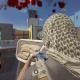Character: (17, 12, 80, 80), (39, 33, 40, 38)
Head: (42, 14, 80, 58), (39, 34, 40, 34)
